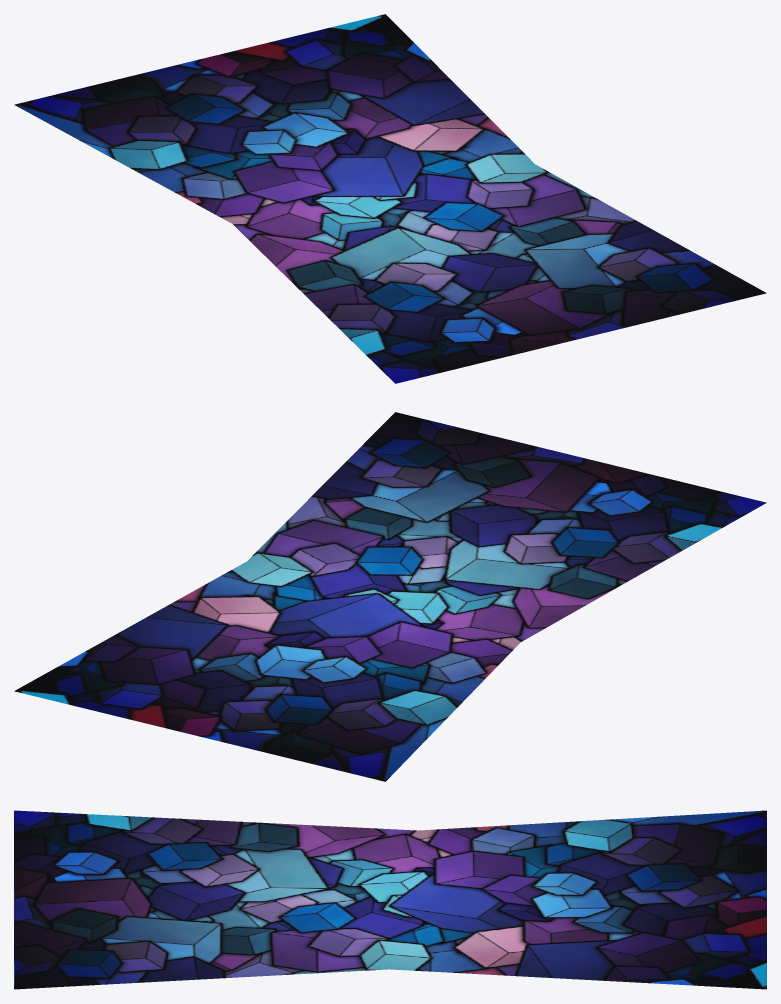
The model's file is Background Test 1.FBX.
3 renders of one model, top to bottom at view 1: azimuth 30°, elevation 25°; view 2: azimuth 150°, elevation 25°; view 3: azimuth 270°, elevation 25°, orthographic.
Visible parts, largest first — view 1: Plane004; view 2: Plane004; view 3: Plane004.
Boxes of the visible parts, <box> form: Plane004: <box>14,14,766,383</box>; Plane004: <box>14,412,766,781</box>; Plane004: <box>14,810,766,989</box>.
Size of the model in its own units: 305 by 3.29e-14 by 542.
Materials: 1 (1 with a texture image).
